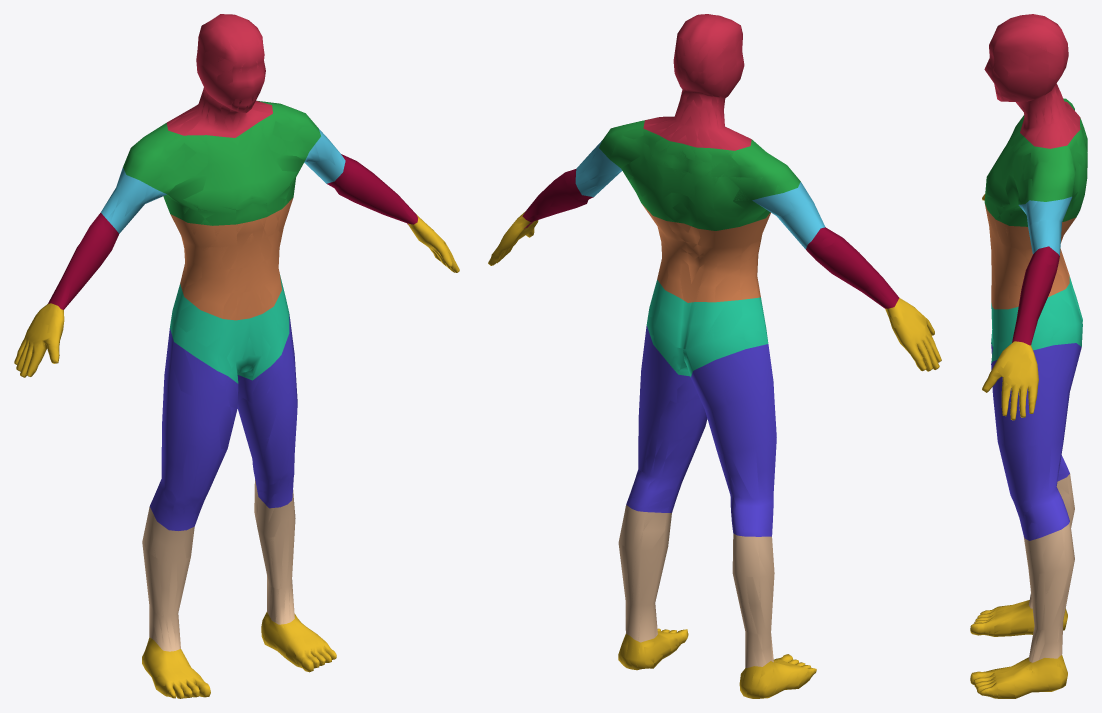
The model's file is defaultbody.glb.
The picture shows the model from 3 angles, left to right: view 1: azimuth 30°, elevation 25°; view 2: azimuth 150°, elevation 25°; view 3: azimuth 270°, elevation 25°; orthographic projection. The views are drawn at different scales.
Parts seen in each view (by area): view 1: body, backup; view 2: backup, body; view 3: body, backup.
Part boxes in pixels (x1,y1,x2,y2): body: (14, 14, 459, 698); backup: (15, 16, 456, 698); backup: (488, 14, 941, 698); body: (490, 14, 941, 698); body: (970, 14, 1087, 698); backup: (970, 14, 1087, 698).
Size of the model in its own units: 124 by 175 by 29.02.
